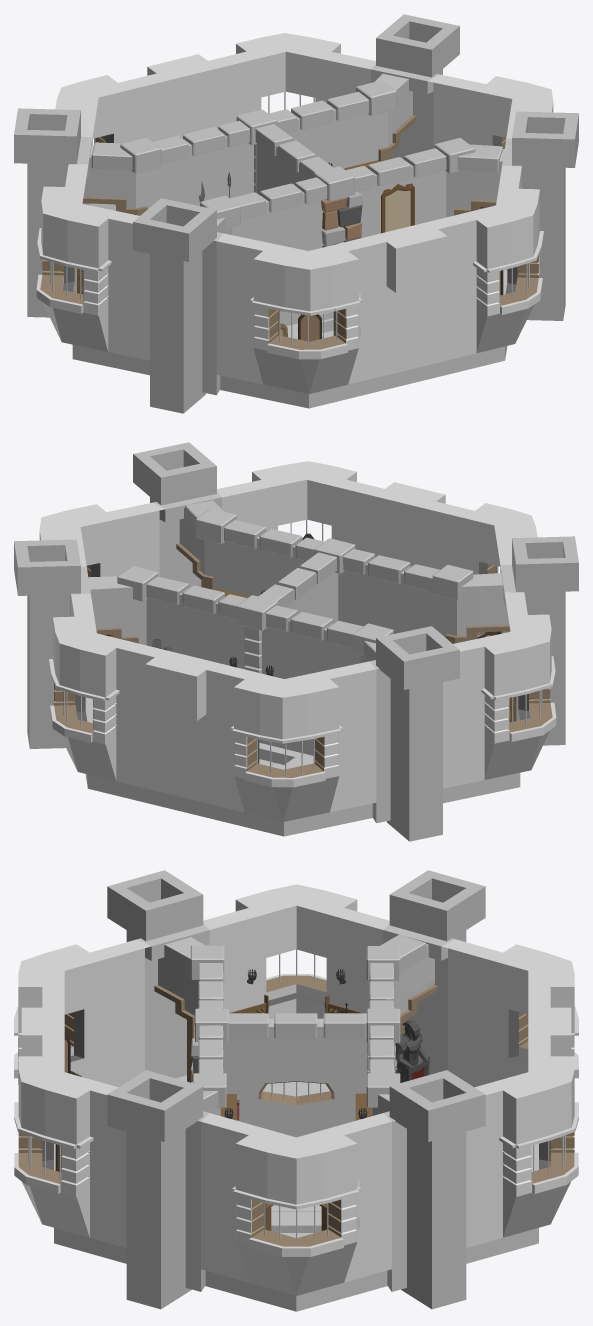
The model's file is firstfloor.fbx.
The picture shows the model from 3 angles, top to bottom: view 1: azimuth 30°, elevation 25°; view 2: azimuth 150°, elevation 25°; view 3: azimuth 270°, elevation 25°; orthographic projection. The views are drawn at different scales.
Parts seen in each view (by area): view 1: firstfloor, walllvl4, walllvl6, walllvl5, walllvl3; view 2: firstfloor, walllvl6, walllvl4, walllvl5, walllvl3; view 3: firstfloor, walllvl6, walllvl4, walllvl3, walllvl5.
Boxes of the visible parts, x1,y1,x2,y2 form: firstfloor: (14,14,578,413); walllvl4: (216,165,543,393); walllvl6: (55,33,375,210); walllvl5: (36,164,149,360); walllvl3: (428,74,553,148); firstfloor: (14,442,578,841); walllvl6: (49,593,376,821); walllvl4: (217,461,537,634); walllvl5: (443,592,556,788); walllvl3: (39,502,164,577); firstfloor: (54,870,538,1311); walllvl6: (442,939,578,1247); walllvl4: (14,939,150,1247); walllvl3: (201,1113,391,1295); walllvl5: (203,884,389,1018).
Bounding box in the file's own units: 284 × 98.6 × 244.
